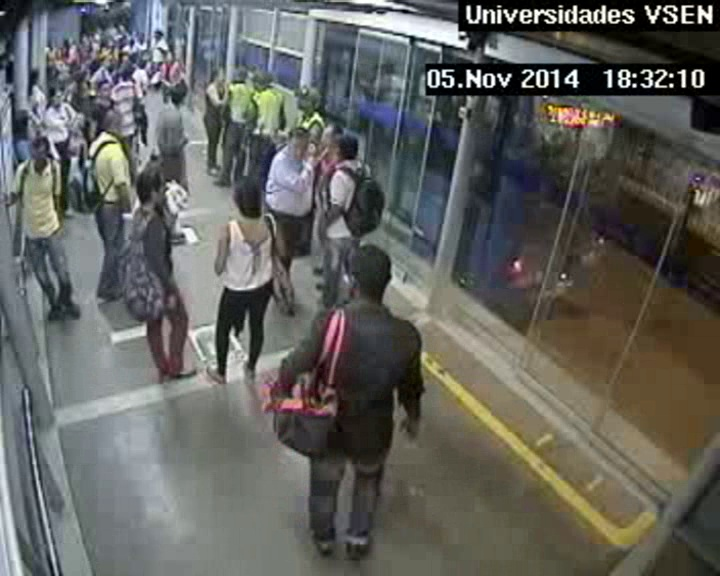person: (348, 243, 397, 295), (230, 174, 267, 215), (137, 169, 172, 208), (288, 128, 312, 159), (29, 137, 53, 165), (298, 86, 322, 114), (335, 136, 360, 161), (103, 108, 126, 134), (12, 110, 34, 136), (322, 123, 341, 146), (170, 82, 190, 103), (48, 87, 64, 107), (252, 73, 268, 91), (232, 67, 248, 84), (209, 67, 224, 85), (96, 80, 111, 97), (28, 70, 42, 86), (127, 55, 140, 69), (68, 64, 81, 78), (73, 72, 86, 86), (100, 54, 112, 67), (164, 51, 175, 63), (118, 70, 129, 82), (54, 50, 65, 62), (118, 53, 128, 64), (79, 33, 89, 43), (153, 28, 162, 39), (137, 33, 146, 43), (120, 24, 129, 32), (92, 34, 100, 43), (113, 24, 121, 32), (104, 38, 112, 46), (48, 40, 55, 49), (98, 26, 105, 34), (68, 38, 75, 46), (62, 40, 69, 48), (120, 35, 127, 42), (129, 39, 135, 46)
